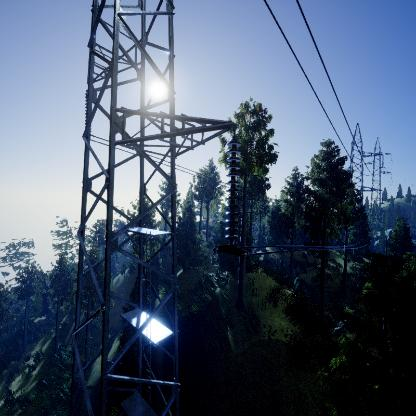insulator: (224, 140, 245, 246)
